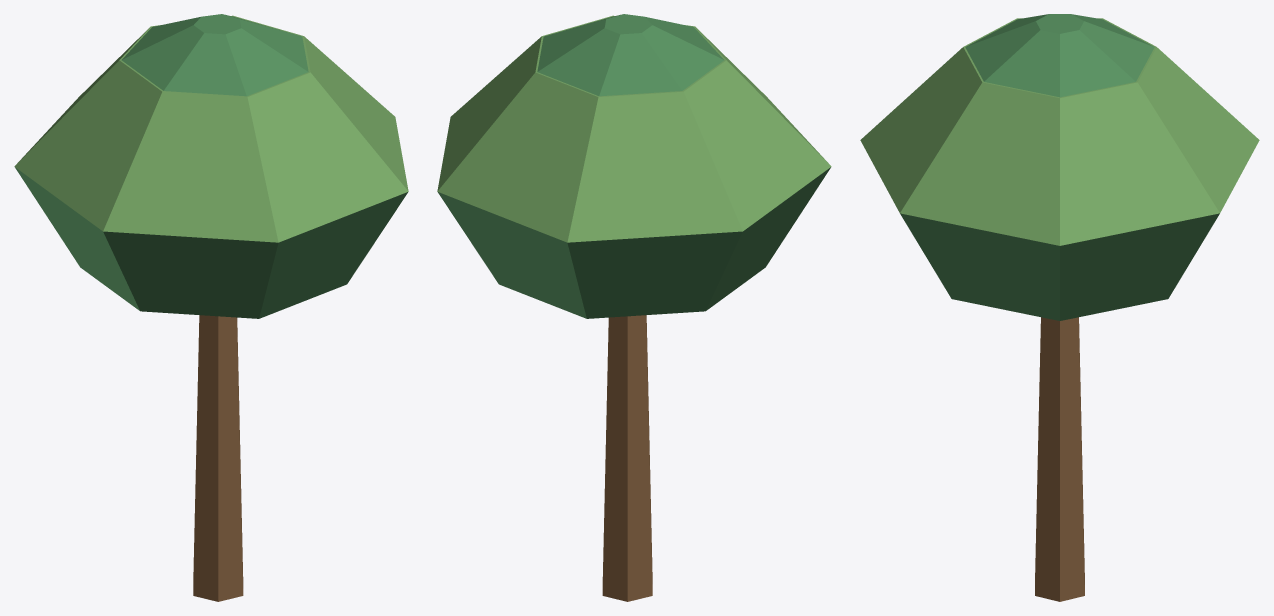
The model's file is tree-round.glb.
The picture shows the model from 3 angles, left to right: view 1: azimuth 30°, elevation 25°; view 2: azimuth 150°, elevation 25°; view 3: azimuth 270°, elevation 25°; orthographic projection.
Parts seen in each view (by area): view 1: asset_root; view 2: asset_root; view 3: asset_root.
Part boxes in pixels (left/top/right/bottom): asset_root: left=14, top=14, right=408, bottom=601; asset_root: left=437, top=14, right=831, bottom=601; asset_root: left=860, top=14, right=1259, bottom=601.
Size of the model in its own units: 1.88 by 3.02 by 1.93.
